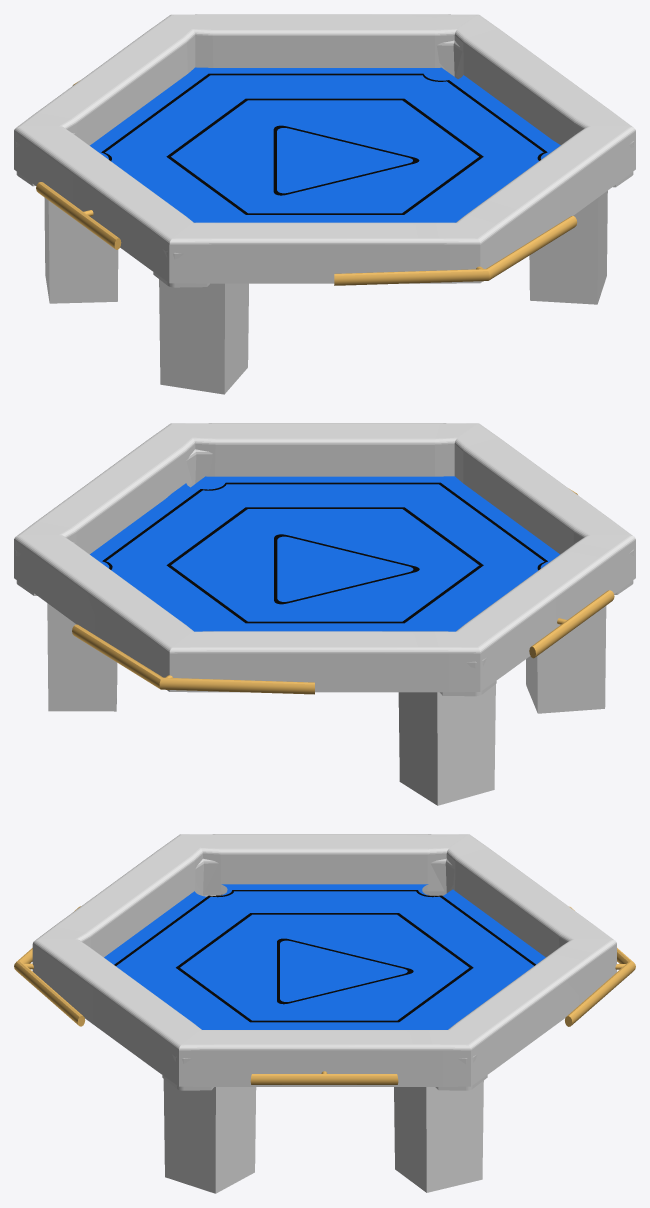
The model's file is HexagonBoardV2.fbx.
The picture shows the model from 3 angles, top to bottom: view 1: azimuth 30°, elevation 25°; view 2: azimuth 150°, elevation 25°; view 3: azimuth 270°, elevation 25°; orthographic projection. The views are drawn at different scales.
Visible parts, largest first — view 1: EdgeHighlight, ActualBase, Hole1TriggerSide2, Hole4TriggerSide2.001, Hole2TriggerSide2.001, Handle1.001, Hole1TriggerSide1, MiddleRing, OuterRing, Handle3, Hole2TriggerSide1.001, Triangle.001 (+1 smaller); view 2: EdgeHighlight, ActualBase, Hole4TriggerSide4.001, Hole1TriggerSide4, Hole3TriggerSide4.002, Hole4TriggerSide3.001, Handle1, MiddleRing, OuterRing, Handle3, Triangle.001, HoleGlow2; view 3: EdgeHighlight, ActualBase, Hole3TriggerSide3.002, Hole2TriggerSide1.001, Hole2TriggerSide3.001, Hole3TriggerSide1.002, MiddleRing, Handle2, Handle1.001, Handle1, OuterRing, Triangle.001 (+2 smaller).
Boxes of the visible parts, left/top/right/bottom form: EdgeHighlight: left=14, top=14, right=635, bottom=283; ActualBase: left=90, top=67, right=560, bottom=222; Hole1TriggerSide2: left=159, top=279, right=224, bottom=394; Hole4TriggerSide2.001: left=48, top=201, right=118, bottom=303; Hole2TriggerSide2.001: left=529, top=197, right=598, bottom=304; Handle1.001: left=334, top=216, right=577, bottom=285; Hole1TriggerSide1: left=224, top=283, right=248, bottom=393; MiddleRing: left=166, top=98, right=483, bottom=214; OuterRing: left=101, top=73, right=547, bottom=160; Handle3: left=36, top=182, right=121, bottom=249; Hole2TriggerSide1.001: left=597, top=190, right=607, bottom=303; Triangle.001: left=273, top=125, right=419, bottom=195; EdgeHighlight: left=14, top=423, right=635, bottom=692; ActualBase: left=90, top=476, right=559, bottom=631; Hole4TriggerSide4.001: left=437, top=684, right=495, bottom=805; Hole1TriggerSide4: left=537, top=606, right=606, bottom=713; Hole3TriggerSide4.002: left=47, top=603, right=117, bottom=711; Hole4TriggerSide3.001: left=398, top=692, right=437, bottom=805; Handle1: left=72, top=624, right=314, bottom=694; MiddleRing: left=166, top=507, right=483, bottom=623; OuterRing: left=102, top=482, right=547, bottom=570; Handle3: left=529, top=590, right=614, bottom=658; Triangle.001: left=274, top=534, right=419, bottom=604; HoleGlow2: left=186, top=449, right=213, bottom=486; EdgeHighlight: left=32, top=834, right=616, bottom=1086; ActualBase: left=104, top=884, right=545, bottom=1029; Hole3TriggerSide3.002: left=426, top=1080, right=483, bottom=1192; Hole2TriggerSide1.001: left=163, top=1079, right=215, bottom=1193; Hole2TriggerSide3.001: left=215, top=1087, right=256, bottom=1193; Hole3TriggerSide1.002: left=394, top=1087, right=426, bottom=1192; MiddleRing: left=176, top=913, right=473, bottom=1022; Handle2: left=250, top=1074, right=398, bottom=1084; Handle1.001: left=14, top=906, right=85, bottom=1026; Handle1: left=565, top=906, right=635, bottom=1026; OuterRing: left=114, top=890, right=535, bottom=965; Triangle.001: left=277, top=938, right=413, bottom=1004.
Bounding box in the file's own units: 2.26 × 0.6992 × 2.59.
